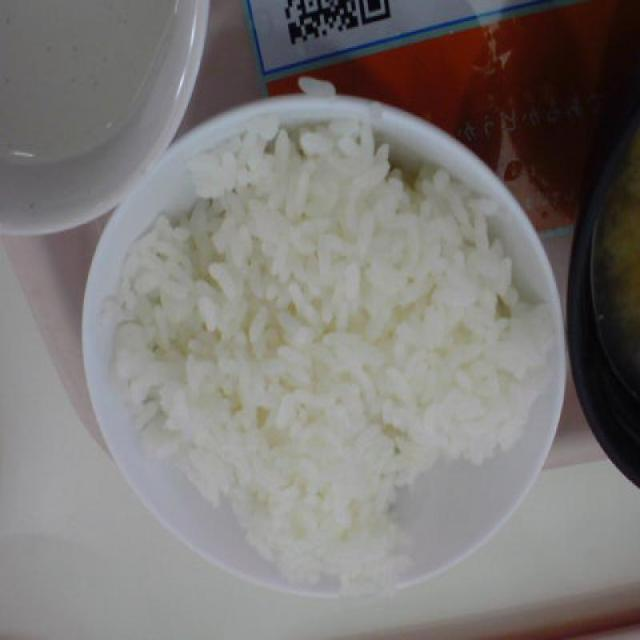nasi_putih: (112, 117, 553, 588)
